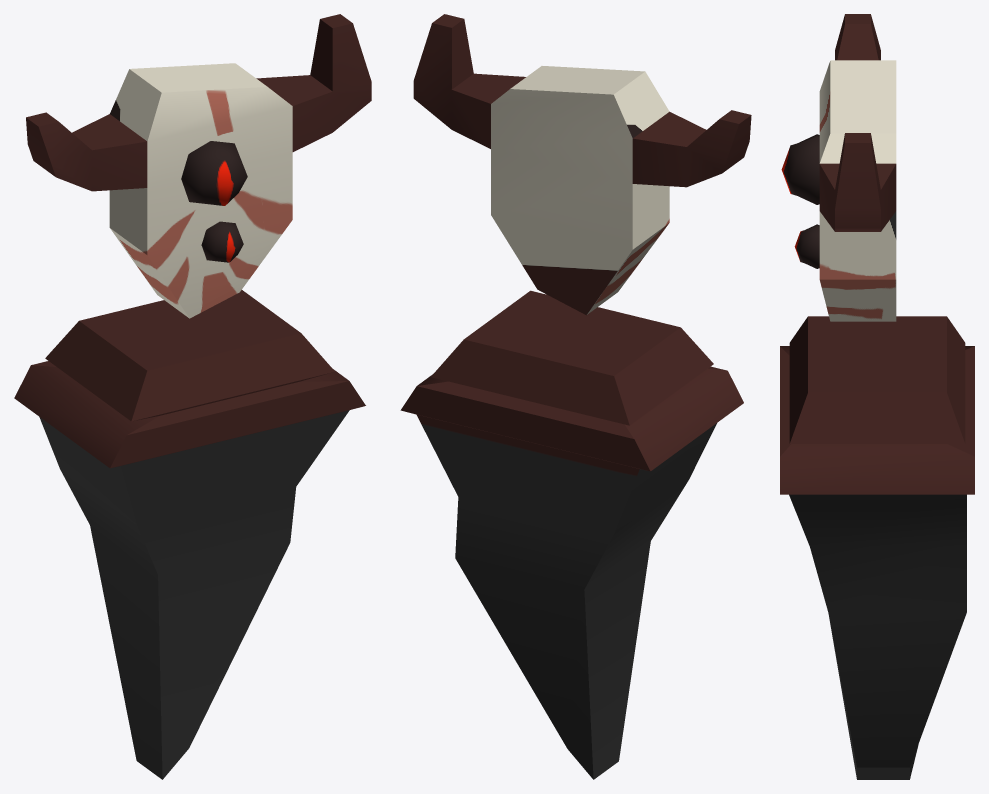
The model's file is verteyedemon_UPDATED.obj.
3 views of the same model, side by side, from view 1: azimuth 30°, elevation 25°; view 2: azimuth 150°, elevation 25°; view 3: azimuth 270°, elevation 25° (orthographic). The views are drawn at different scales.
Parts seen in each view (by area): view 1: evenmoredemons:verteye_body, evenmoredemons:verteye_body evenmoredemons:verteyehead, evenmoredemons:verteye_body evenmoredemons:verteyehead evenmored; view 2: evenmoredemons:verteye_body, evenmoredemons:verteye_body evenmoredemons:verteyehead; view 3: evenmoredemons:verteye_body, evenmoredemons:verteye_body evenmoredemons:verteyehead, evenmoredemons:verteye_body evenmoredemons:verteyehead evenmored.
Boxes of the visible parts, left/top/right/bottom form: evenmoredemons:verteye_body: left=14, top=290, right=365, bottom=779; evenmoredemons:verteye_body evenmoredemons:verteyehead: left=26, top=14, right=371, bottom=318; evenmoredemons:verteye_body evenmoredemons:verteyehead evenmored: left=181, top=141, right=247, bottom=262; evenmoredemons:verteye_body: left=400, top=290, right=743, bottom=779; evenmoredemons:verteye_body evenmoredemons:verteyehead: left=413, top=14, right=751, bottom=315; evenmoredemons:verteye_body: left=780, top=316, right=974, bottom=779; evenmoredemons:verteye_body evenmoredemons:verteyehead: left=819, top=14, right=896, bottom=321; evenmoredemons:verteye_body evenmoredemons:verteyehead evenmored: left=781, top=134, right=819, bottom=268.
Bounding box in the file's own units: 24.23 × 50.5 × 12.24.
